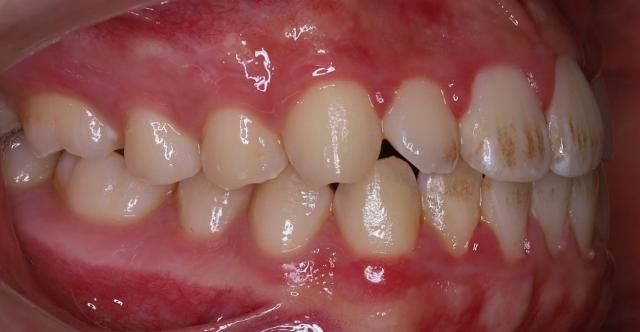canine class I: (247, 73, 425, 273)
molar class III 1/2: (15, 92, 174, 236)
